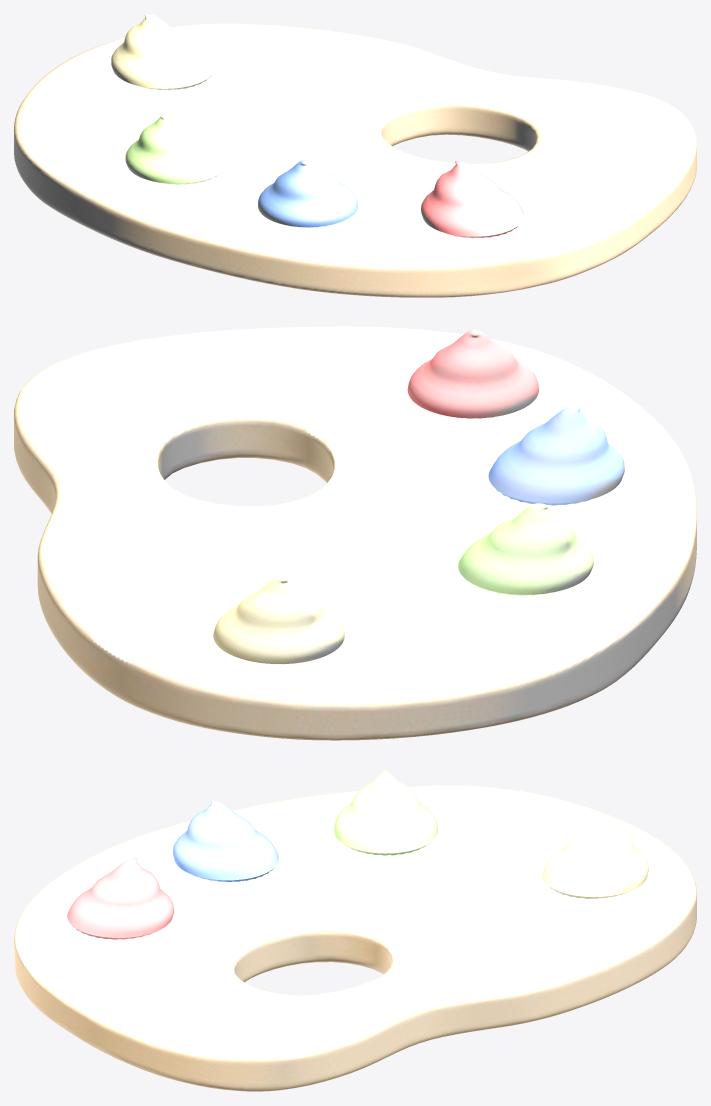
File: paint.gltf
3 renders of one model, top to bottom at view 1: azimuth 30°, elevation 25°; view 2: azimuth 150°, elevation 25°; view 3: azimuth 270°, elevation 25°, orthographic. The views are drawn at different scales.
Parts seen in each view (by area): view 1: Cylinder.1; view 2: Cylinder.1; view 3: Cylinder.1.
Boxes of the visible parts, x1,y1,x2,y2 form: Cylinder.1: [14, 14, 696, 297]; Cylinder.1: [14, 326, 696, 740]; Cylinder.1: [14, 769, 696, 1091].
Bounding box in the file's own units: 267 × 43.61 × 282.
